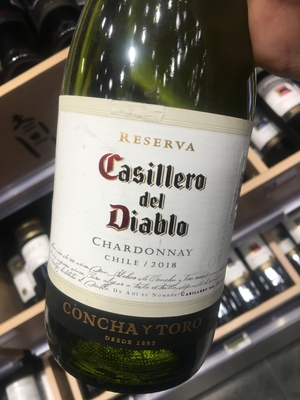casillero del diablo chardonnay: (43, 7, 264, 396)
